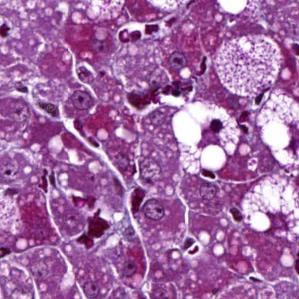ballooning: (172, 99, 241, 178), (256, 87, 297, 182), (241, 178, 296, 246)
